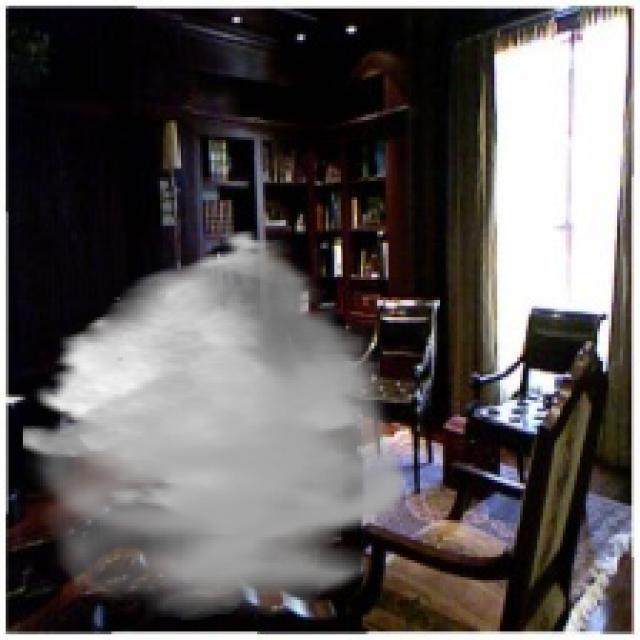Smoke: (22, 228, 414, 620)
